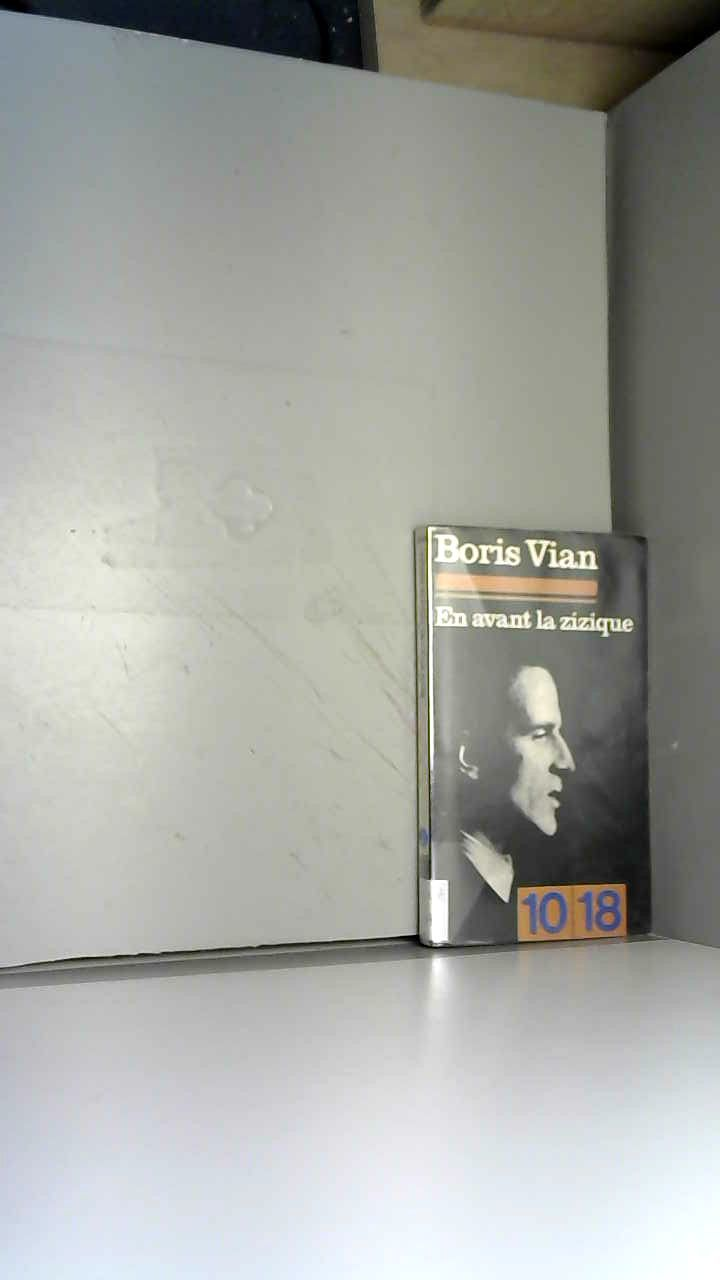book: (368, 477, 694, 982)
